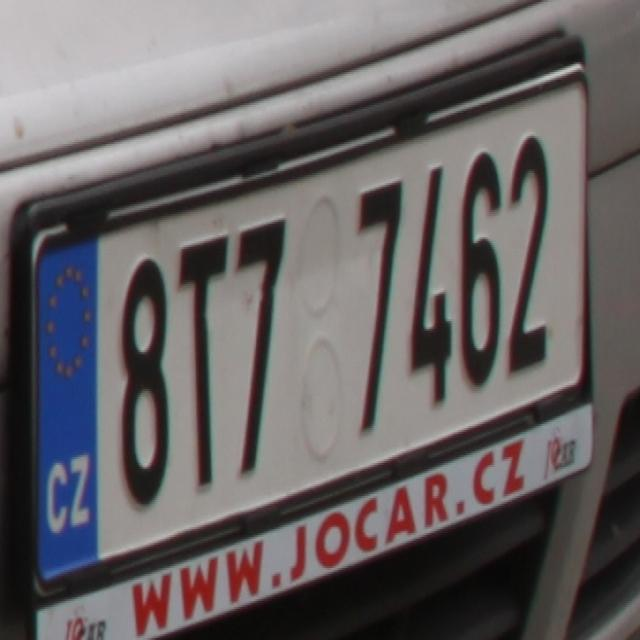2: (509, 130, 552, 384)
4: (409, 162, 457, 404)
6: (458, 142, 508, 395)
7: (233, 206, 287, 475), (356, 179, 404, 438)
8: (116, 255, 176, 506)
T: (178, 235, 234, 496)
